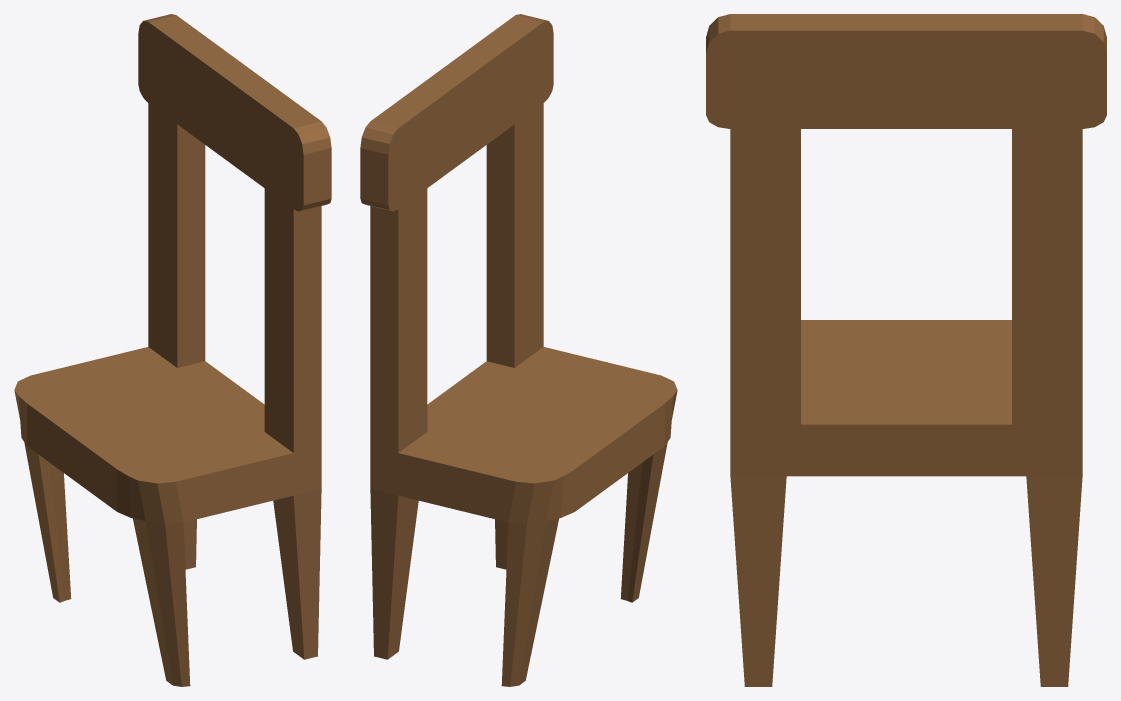
File: Kitchen_Chair.fbx
3 renders of one model, left to right at view 1: azimuth 30°, elevation 25°; view 2: azimuth 150°, elevation 25°; view 3: azimuth 270°, elevation 25°, orthographic. The views are drawn at different scales.
Visible parts, largest first — view 1: Chair; view 2: Chair; view 3: Chair.
Boxes of the visible parts, x1,y1,x2,y2 form: Chair: (14, 14, 331, 686); Chair: (360, 14, 677, 686); Chair: (706, 14, 1106, 686).
Size of the model in its own units: 579 by 1668 by 925.
